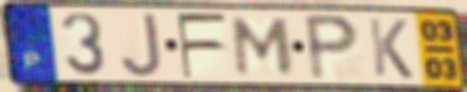3: (59, 11, 108, 79)
F: (174, 11, 230, 81)
J: (118, 11, 165, 79)
K: (365, 16, 416, 81)
M: (231, 15, 296, 78)
P: (301, 12, 362, 84)
